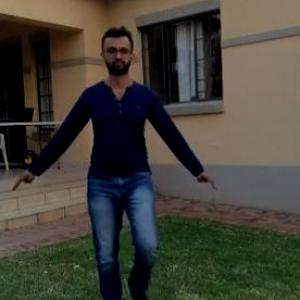land: (16, 21, 227, 299)
